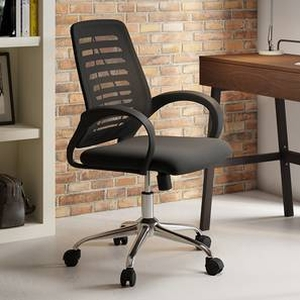chair: (64, 20, 231, 289)
